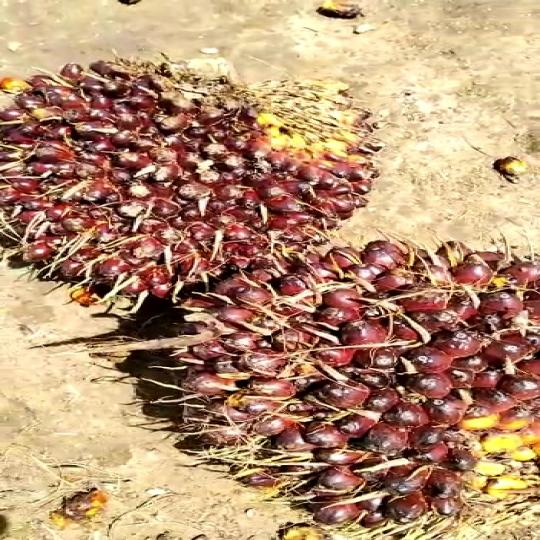kurang masak: (149, 230, 540, 528), (0, 42, 405, 325)
